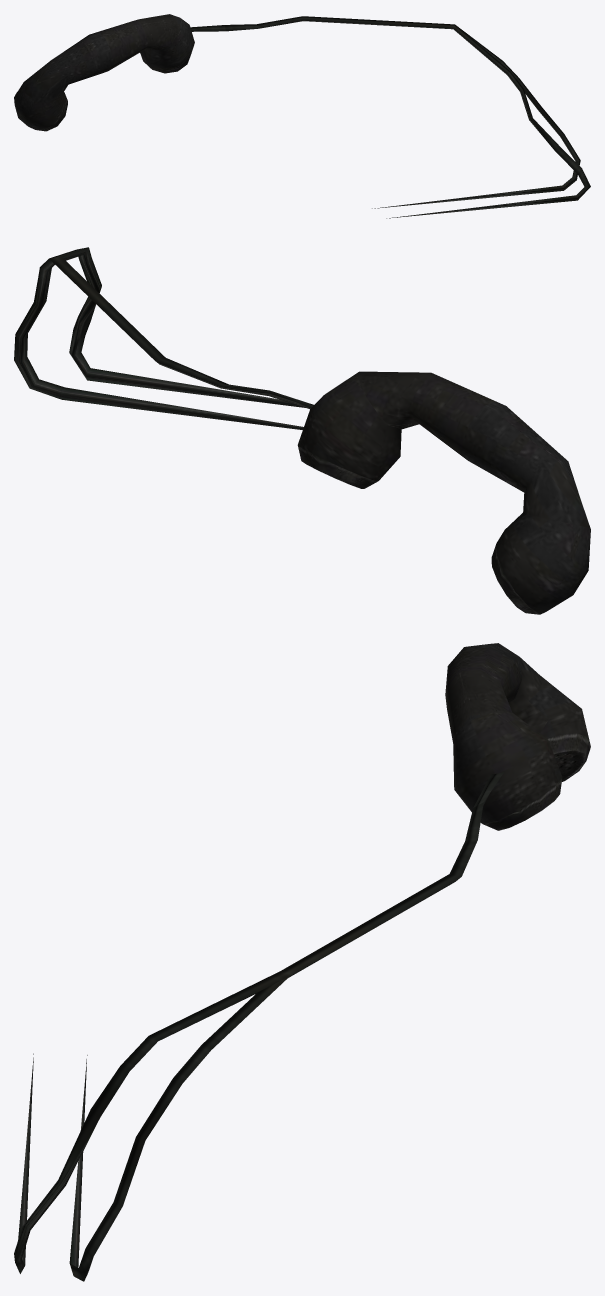
Rendered from british_afrca_mac_radio_back.glb.
3 renders of one model, top to bottom at view 1: azimuth 30°, elevation 25°; view 2: azimuth 150°, elevation 25°; view 3: azimuth 270°, elevation 25°, orthographic. The views are drawn at different scales.
Bounding box in the file's own units: 20.2 × 7.33 × 12.12.
1 material, 1 textured.
